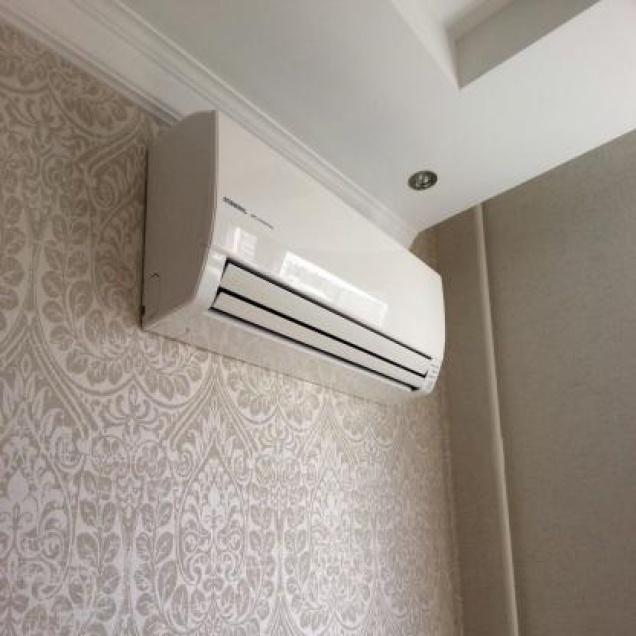AC: (139, 109, 449, 412)
